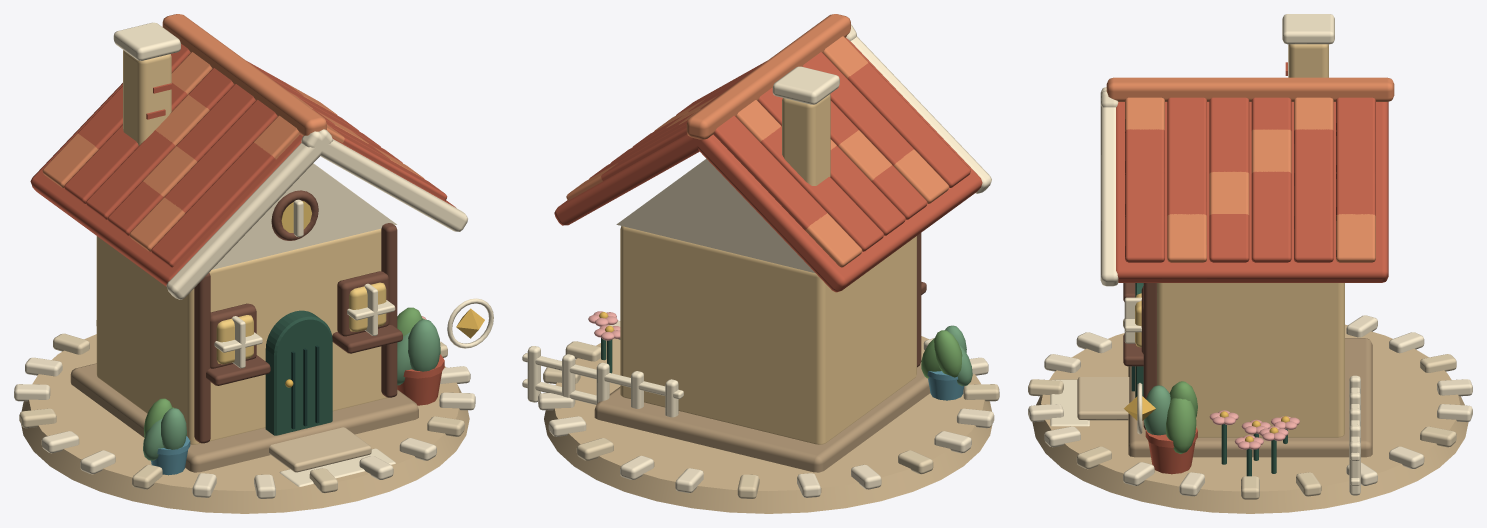
Rendered from home.glb.
The picture shows the model from 3 angles, left to right: view 1: azimuth 30°, elevation 25°; view 2: azimuth 150°, elevation 25°; view 3: azimuth 270°, elevation 25°; orthographic projection. The views are drawn at different scales.
Parts seen in each view (by area): view 1: building-home, landmark-home, treasure-home; view 2: building-home, landmark-home; view 3: building-home, landmark-home, treasure-home.
Boxes of the visible parts, x1,y1,x2,y2 form: building-home: (30,14,467,486); landmark-home: (14,320,475,513); treasure-home: (447,298,493,348); building-home: (522,14,991,472); landmark-home: (538,320,999,513); building-home: (1050,14,1394,495); landmark-home: (1028,315,1472,513); treasure-home: (1124,383,1155,434).
Size of the model in its own units: 1.54 by 1.39 by 1.53.
